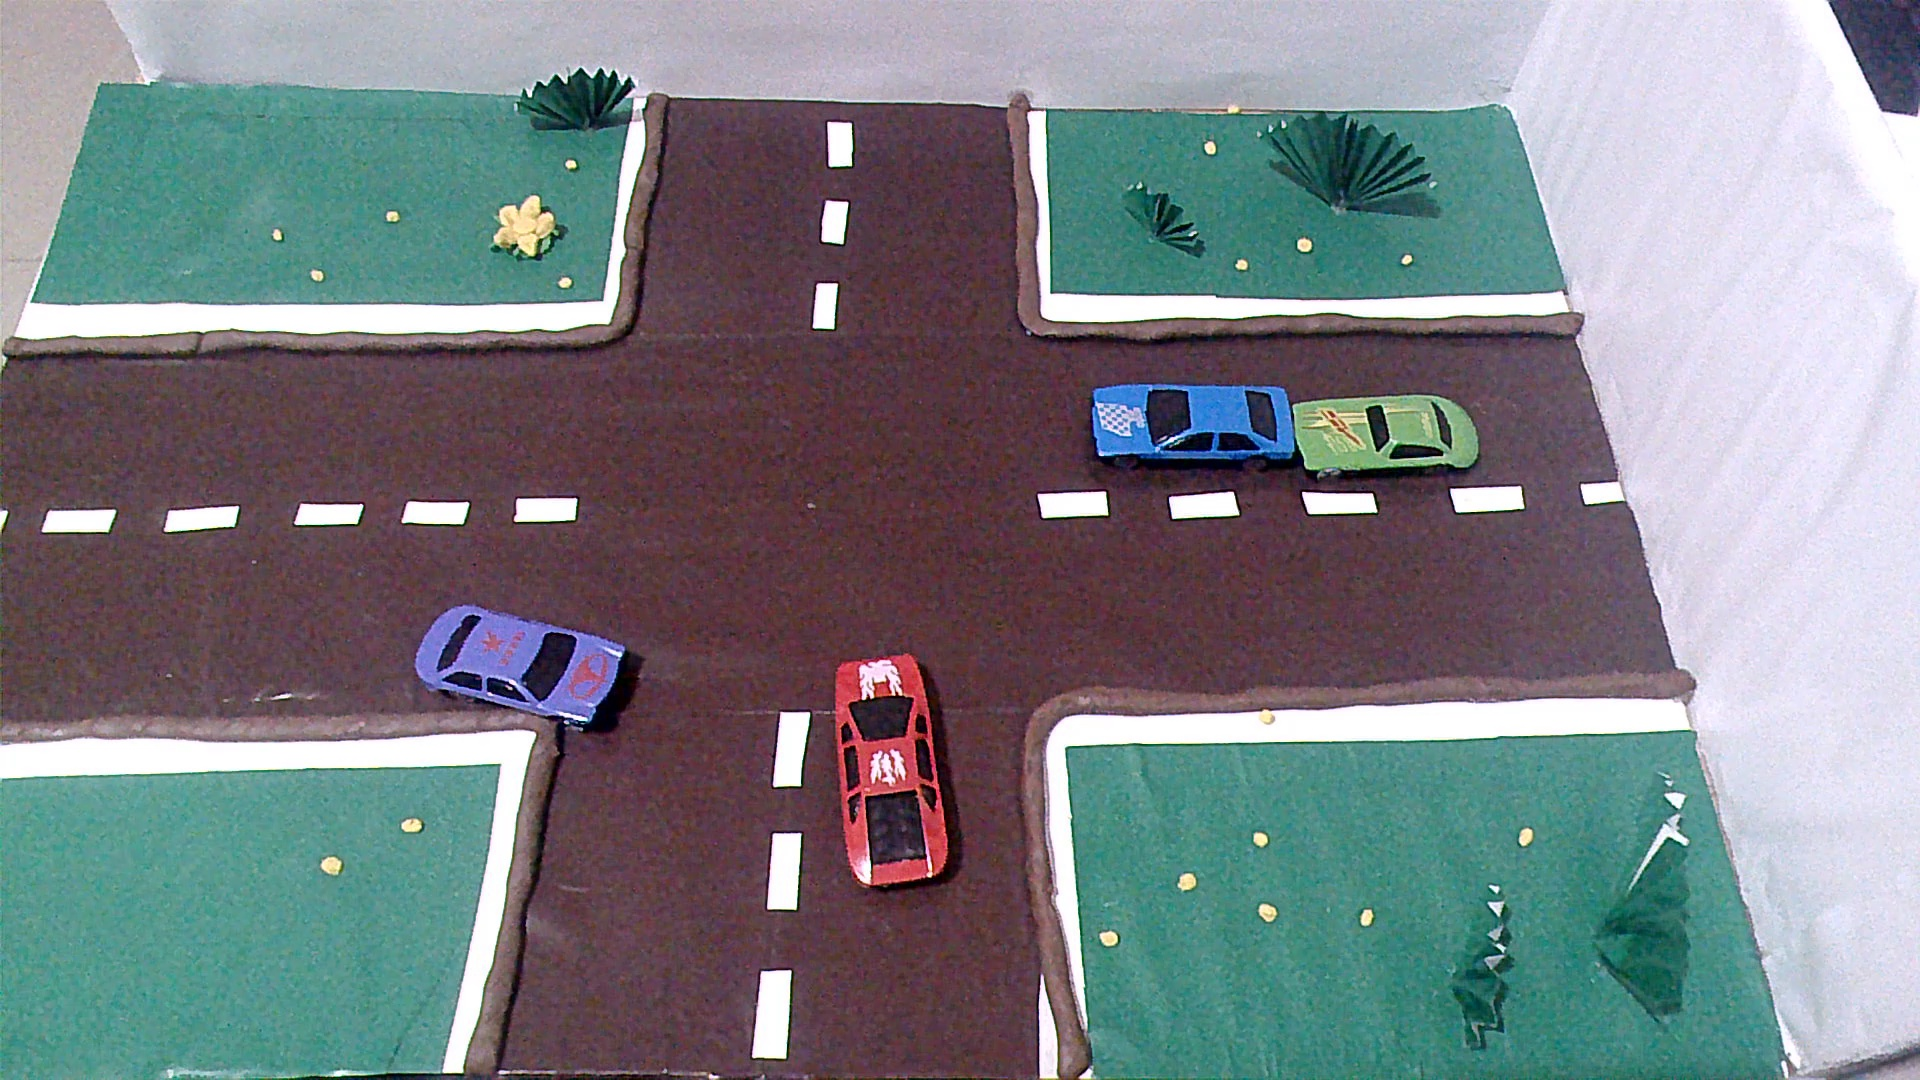car: (832, 651, 949, 894), (413, 601, 628, 731), (1087, 377, 1296, 473), (1290, 397, 1482, 477)
